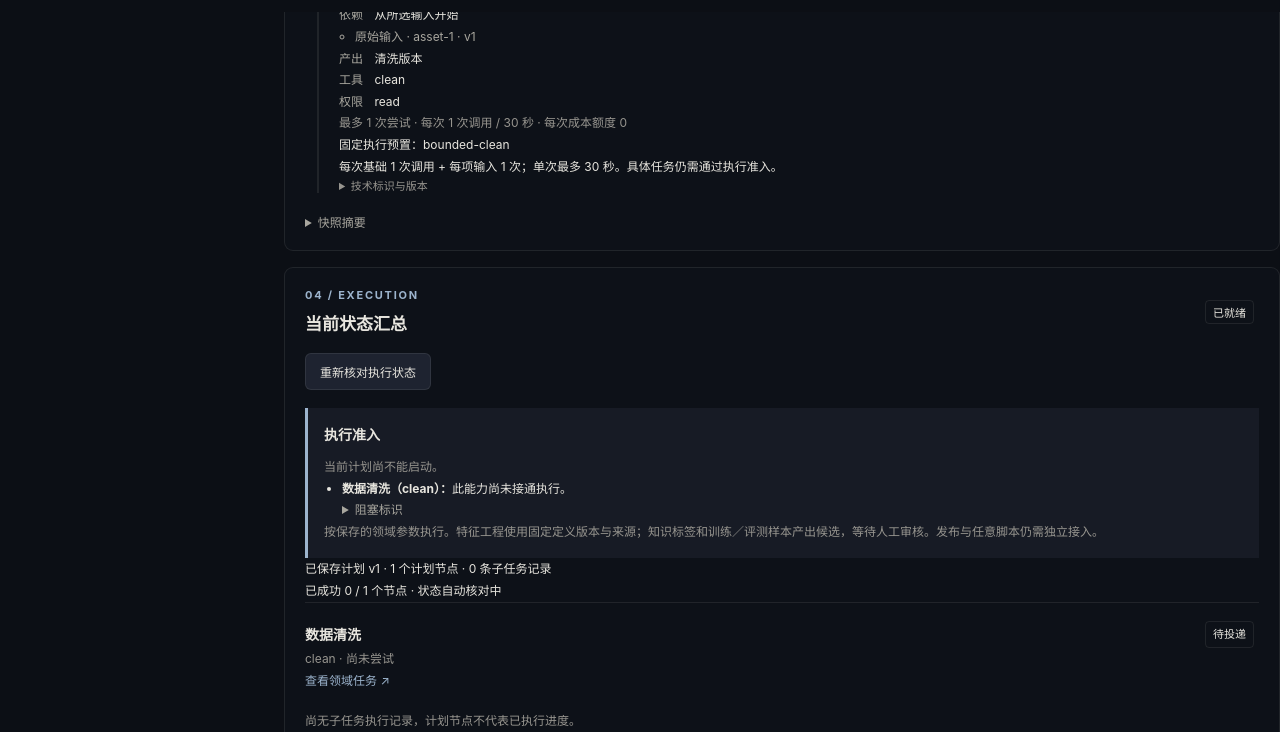
Test: governed task execution controls › requires explicit current readiness rather than saved plans or a globally enabled runtime
The image size is (1280, 732).
(page scrolled)
Click the button "重新核对执行状态": [368, 372] box [305, 353, 431, 390]
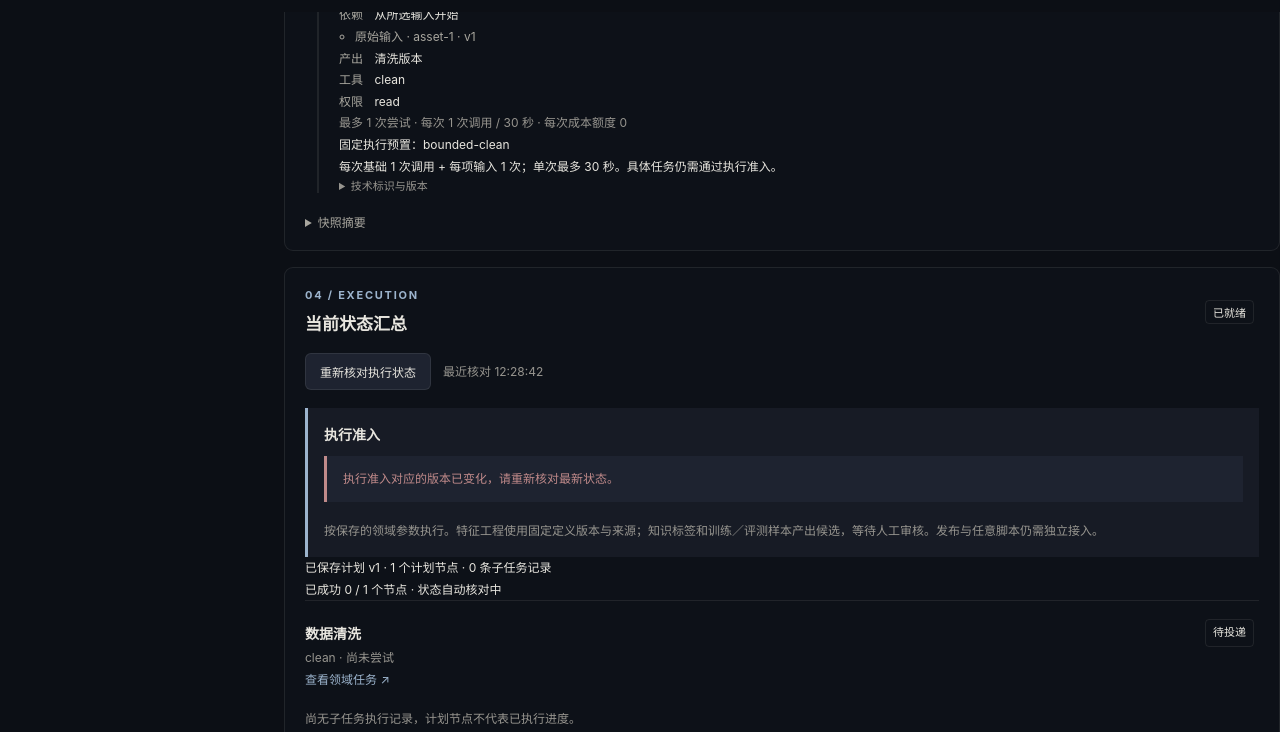
Expected: the text "执行准入对应的版本已变化" is shown, [343, 471, 619, 486]
